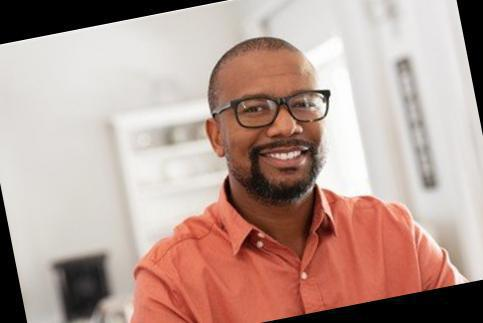Sober: (217, 67, 327, 179)
